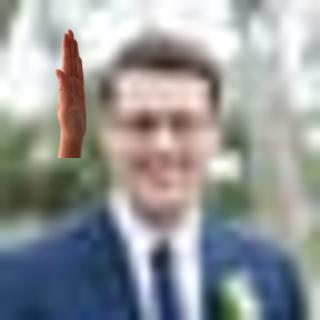Right: (52, 28, 96, 154)
